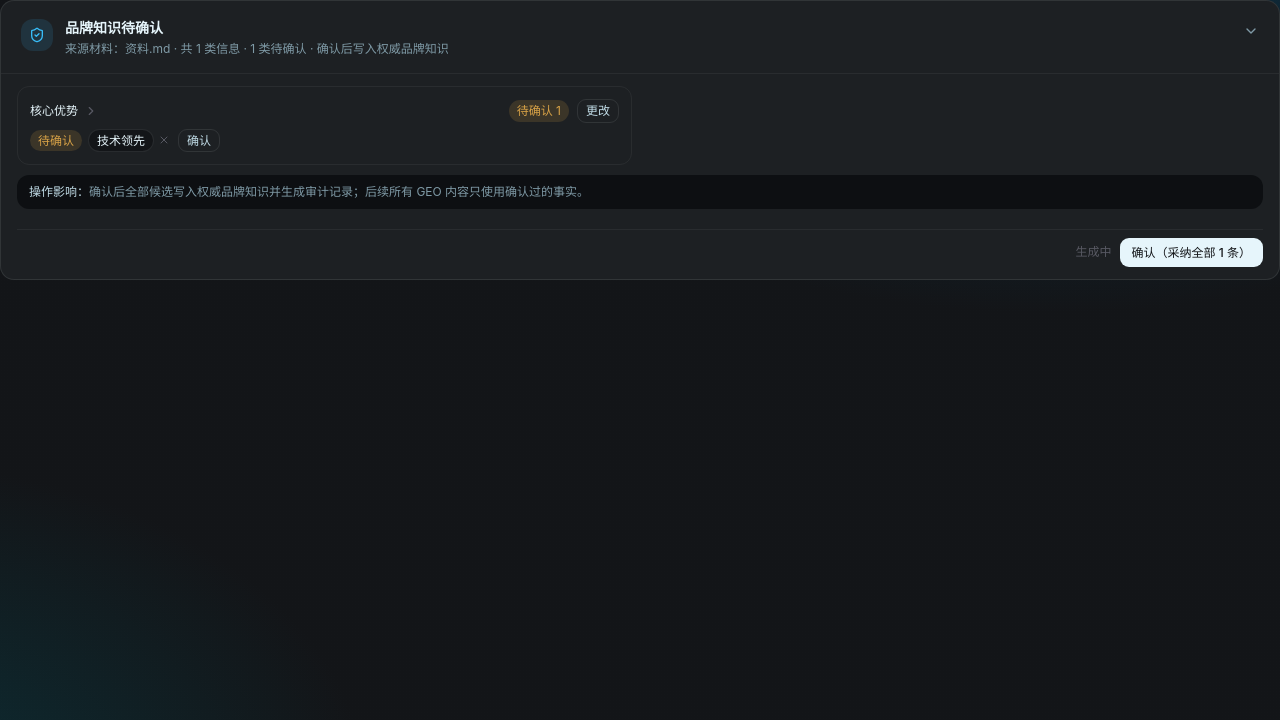
Test case: KnowledgeBatchCard（字段行复核卡） › AI 补全行徽章待确认，一键确认是纯视觉糖：不产生独立提交
Expected: the text "待确认" is shown, [30,130,82,151]
Click the button with aria-label "确认核心优势".
click(199, 140)  # box [178,129,220,152]
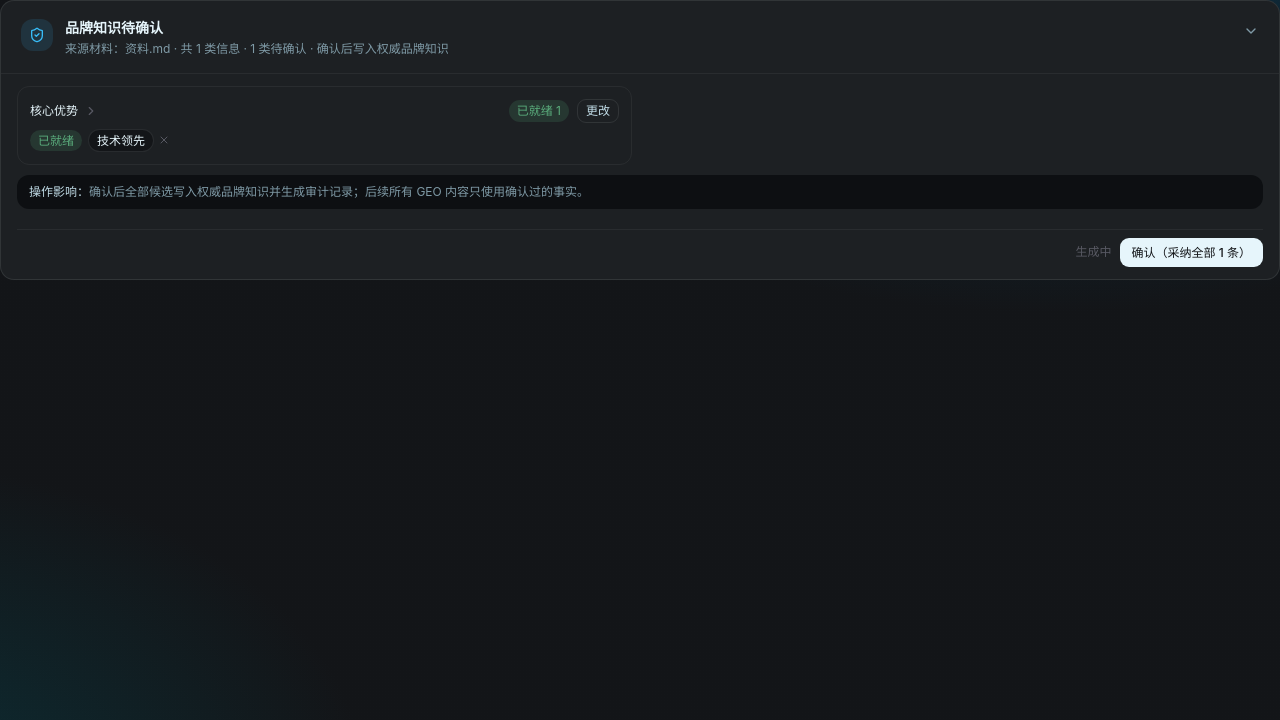
Expected: the text "已就绪" is shown, [30,130,82,151]
Expected: the button "确认核心优势" is gone
